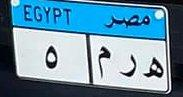5: (40, 44, 62, 70)
haa: (143, 54, 166, 84)
meem: (94, 45, 113, 82)
raa: (118, 52, 139, 80)
